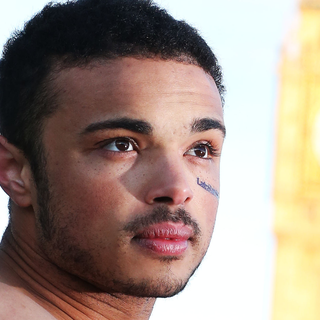eye: (83, 130, 150, 164), (176, 133, 222, 166)
